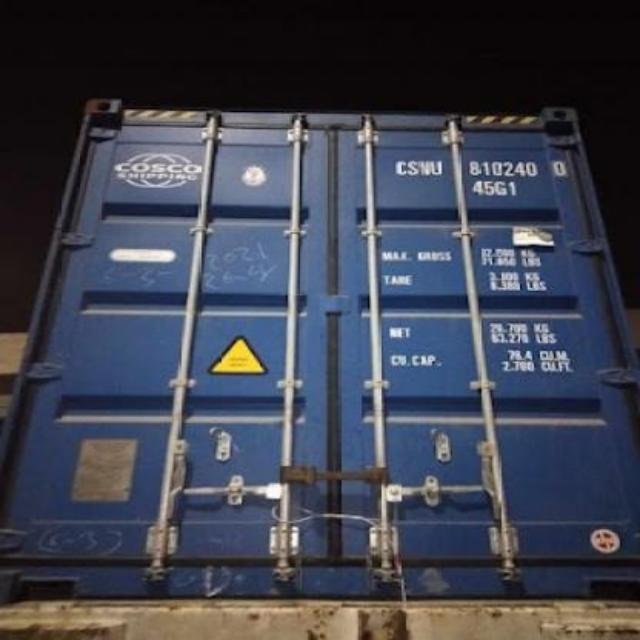0: (550, 154, 568, 176), (526, 156, 540, 180), (492, 156, 504, 180)
1: (482, 155, 490, 181)
2: (502, 154, 512, 176)
4: (514, 158, 526, 178)
8: (468, 154, 482, 180)
C: (394, 156, 408, 177)
M: (420, 148, 430, 178)
S: (406, 151, 422, 175)
U: (431, 150, 444, 178)
